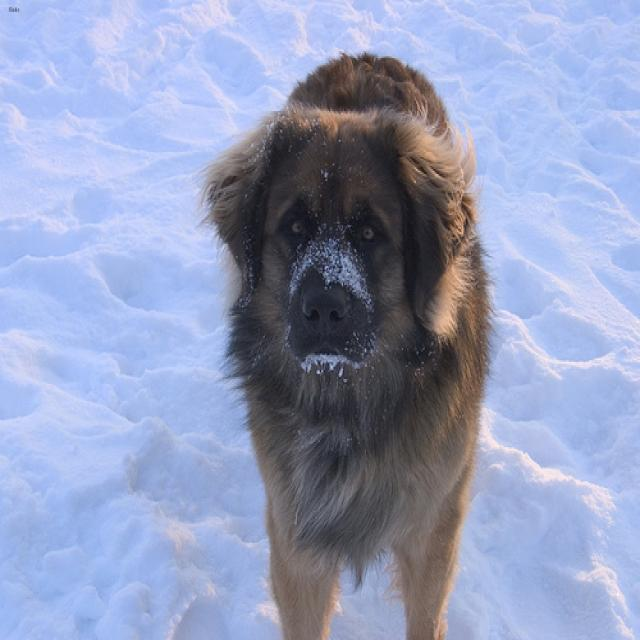dog-leonberger: (192, 38, 499, 637)
